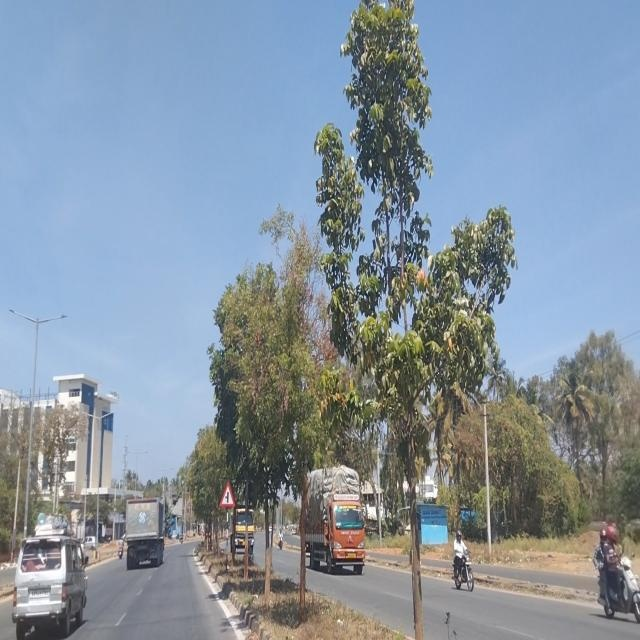bien_nguy_hiem: (219, 480, 235, 510)
